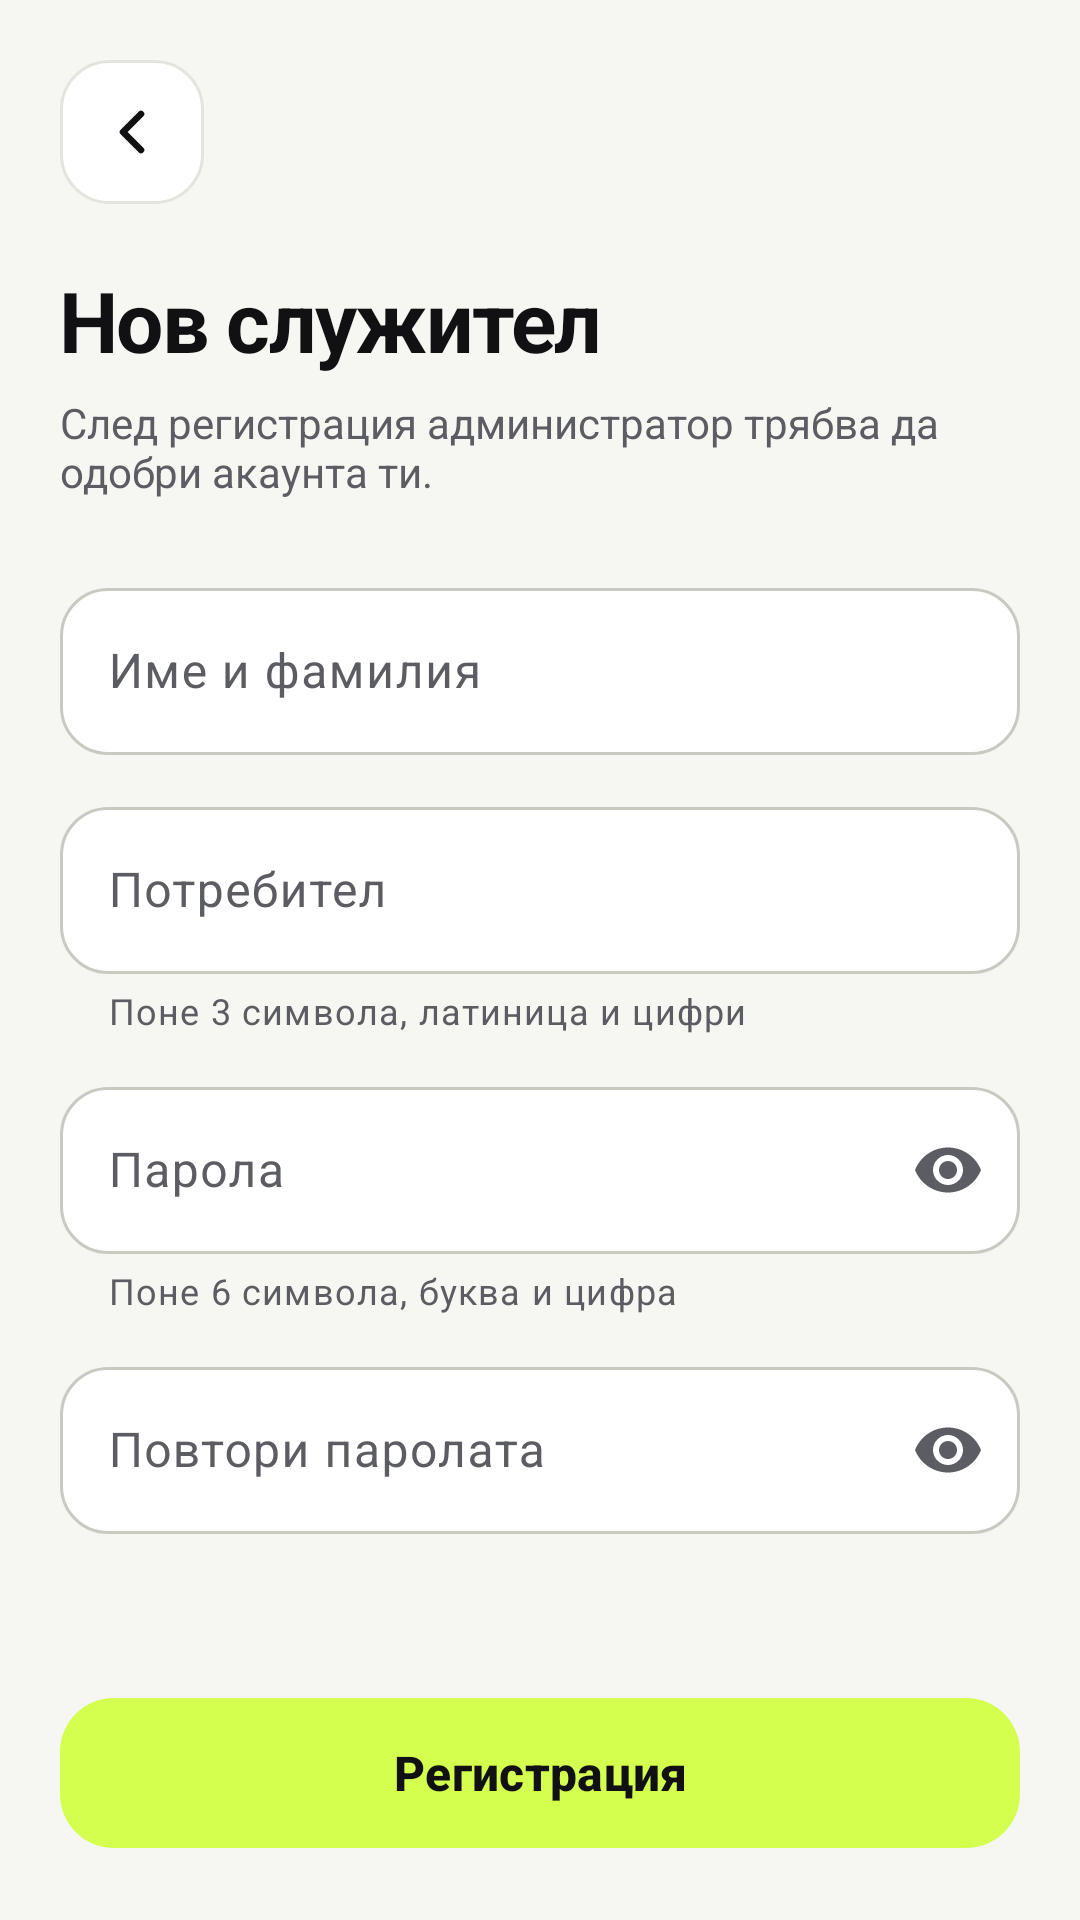

Screen size 1080px x 1920px. Icon name, then its box in pixels as detection(x1, y1, x2, y2):
Назад: detection(60, 60, 204, 204)
